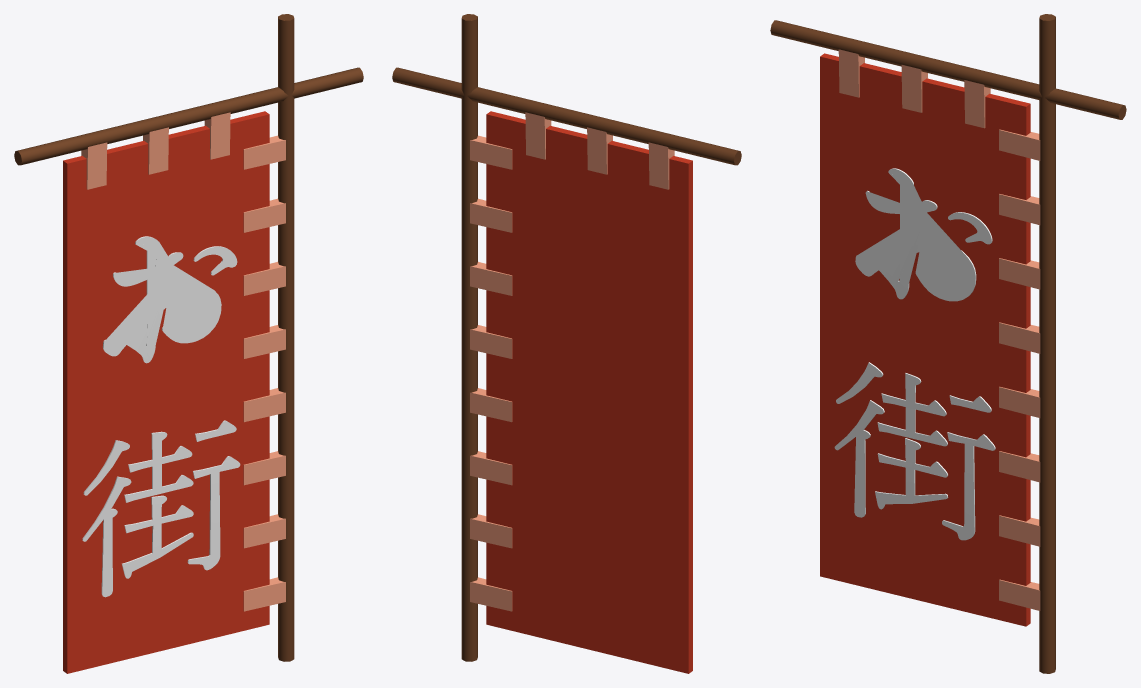
Rendered from Sign_2.fbx.
3 renders of one model, left to right at view 1: azimuth 30°, elevation 25°; view 2: azimuth 150°, elevation 25°; view 3: azimuth 330°, elevation 25°, orthographic.
Parts seen in each view (by area): view 1: Sign_2; view 2: Sign_2; view 3: Sign_2.
Boxes of the visible parts, left/top/right/bottom form: Sign_2: left=14, top=14, right=363, bottom=673; Sign_2: left=392, top=14, right=741, bottom=673; Sign_2: left=770, top=14, right=1126, bottom=673.
Size of the model in its own units: 130 by 233 by 5.56.
